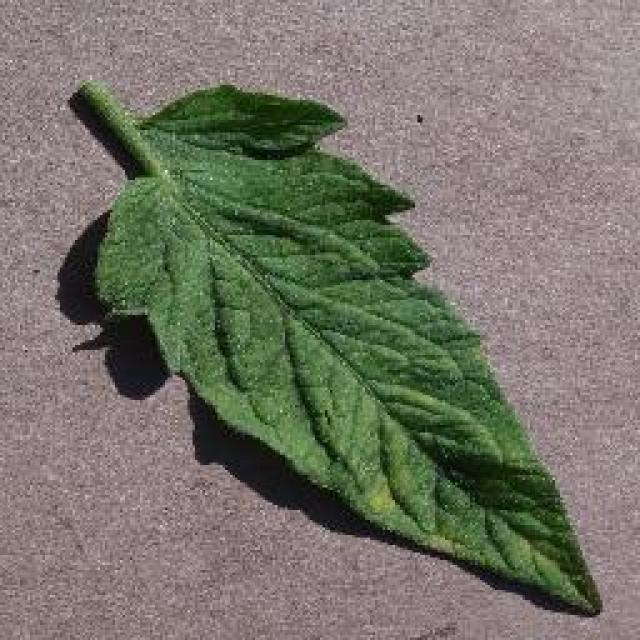leaf mold: (69, 82, 604, 614)
